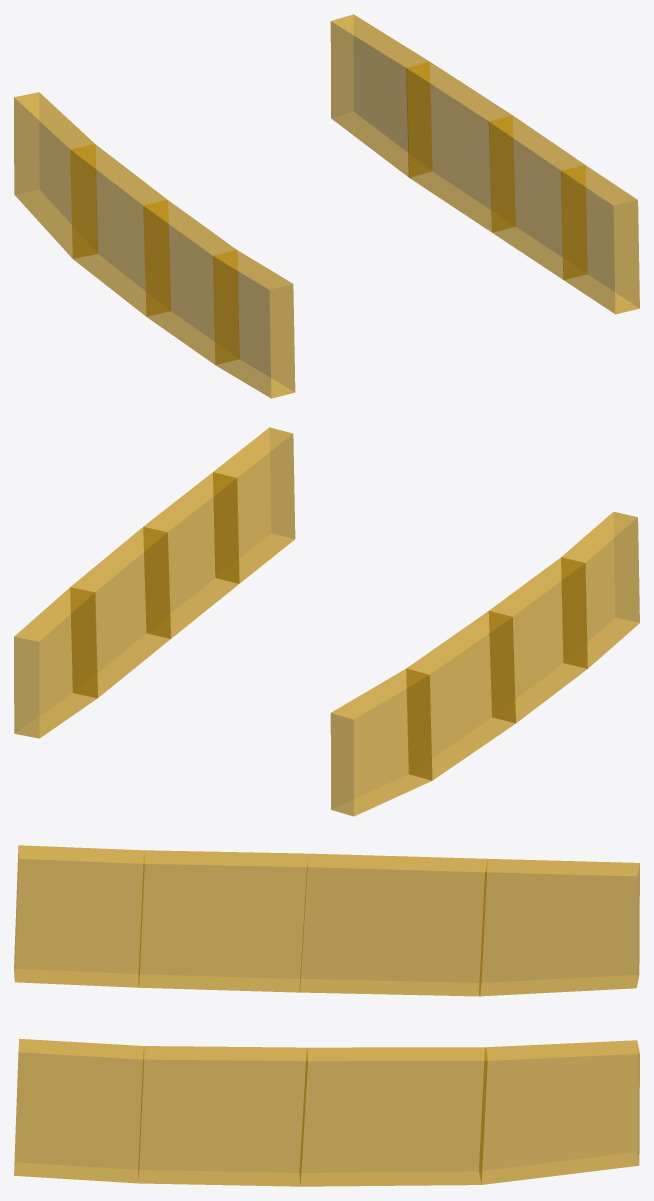
Rendered from SM_Veh_Ship_S_Middle_02_Collision.fbx.
3 views of the same model, one above another, from view 1: azimuth 30°, elevation 25°; view 2: azimuth 150°, elevation 25°; view 3: azimuth 270°, elevation 25° (orthographic). The views are drawn at different scales.
Parts seen in each view (by area): view 1: SM_Veh_Ship_S_Middle_02_Collision; view 2: SM_Veh_Ship_S_Middle_02_Collision; view 3: SM_Veh_Ship_S_Middle_02_Collision.
Part boxes in pixels (x1,y1,x2,y2): SM_Veh_Ship_S_Middle_02_Collision: (14, 14, 639, 398); SM_Veh_Ship_S_Middle_02_Collision: (14, 427, 639, 816); SM_Veh_Ship_S_Middle_02_Collision: (14, 845, 639, 1186).
Size of the model in its own units: 566 by 170 by 715.
